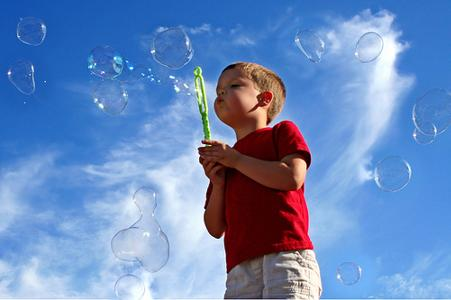person: (195, 58, 325, 296)
